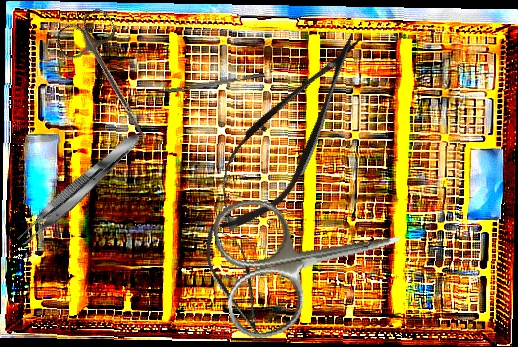Chopper: (152, 72, 266, 101)
Iris Scissors: (208, 172, 415, 344), (51, 5, 173, 152)
Micro Scissor: (191, 15, 386, 249), (195, 217, 277, 347)
Tissue Forceps: (13, 127, 146, 251)
